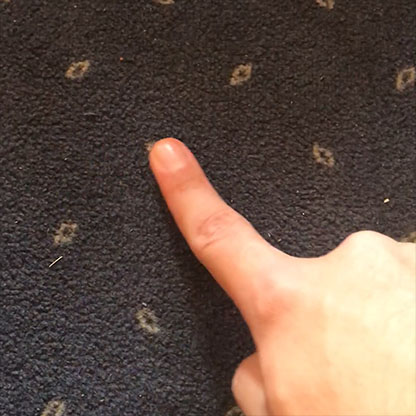fingertip: (138, 130, 198, 190)
